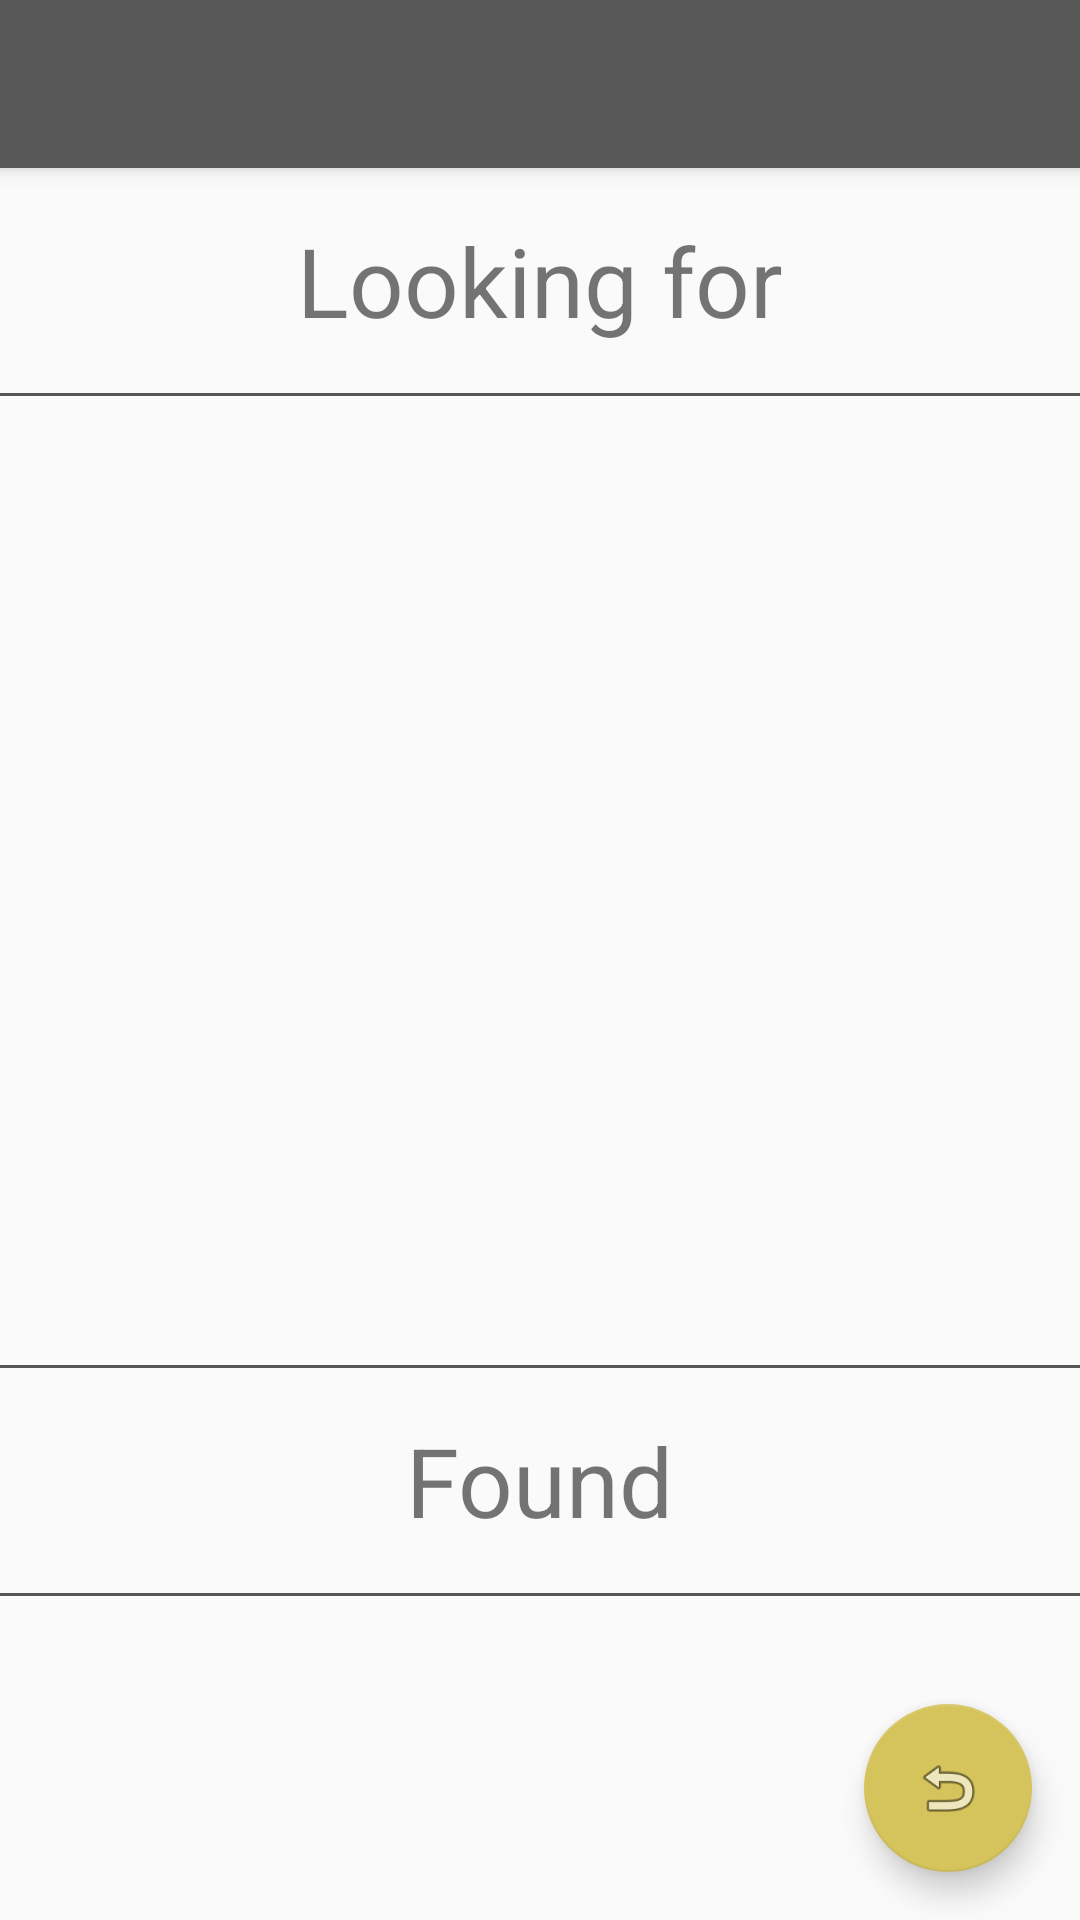

Icons on this 1080 x 1920 Android screen, each with its box as BBox(x1, y1, x2, y2):
revert: BBox(864, 1704, 1032, 1872)
